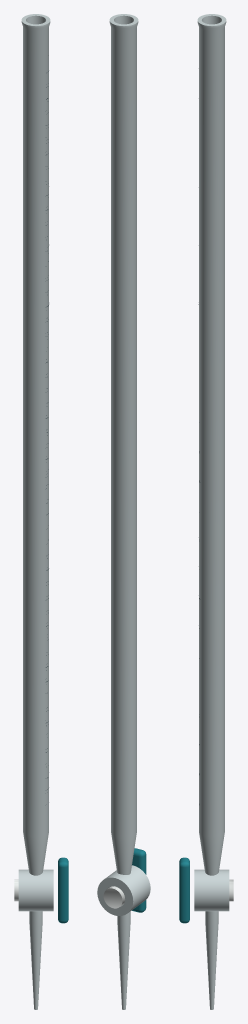
Rendered from VLAB_burette.fbx.
The picture shows the model from 3 angles, left to right: view 1: azimuth 90°, elevation 25°; view 2: azimuth 150°, elevation 25°; view 3: azimuth 270°, elevation 25°; orthographic projection.
Parts seen in each view (by area): view 1: VLAB_burette_Tube_VIS, VLAB_burette_StopcockBody_VIS, VLAB_burette_Tip_VIS, VLAB_burette_StopcockHandle_VIS; view 2: VLAB_burette_Tube_VIS, VLAB_burette_StopcockBody_VIS, VLAB_burette_Tip_VIS, VLAB_burette_StopcockHandle_VIS; view 3: VLAB_burette_Tube_VIS, VLAB_burette_StopcockBody_VIS, VLAB_burette_Tip_VIS, VLAB_burette_StopcockHandle_VIS.
Boxes of the visible parts, x1,y1,x2,y2 form: VLAB_burette_Tube_VIS: [21, 14, 50, 875]; VLAB_burette_StopcockBody_VIS: [18, 869, 53, 911]; VLAB_burette_Tip_VIS: [29, 911, 42, 1009]; VLAB_burette_StopcockHandle_VIS: [14, 857, 68, 923]; VLAB_burette_Tube_VIS: [109, 14, 138, 874]; VLAB_burette_StopcockBody_VIS: [97, 865, 150, 915]; VLAB_burette_Tip_VIS: [117, 911, 130, 1009]; VLAB_burette_StopcockHandle_VIS: [103, 848, 146, 912]; VLAB_burette_Tube_VIS: [197, 14, 226, 875]; VLAB_burette_StopcockBody_VIS: [194, 869, 229, 911]; VLAB_burette_Tip_VIS: [205, 911, 218, 1009]; VLAB_burette_StopcockHandle_VIS: [179, 857, 233, 923].
Bounding box in the file's own units: 0.019 × 0.5 × 0.025.
